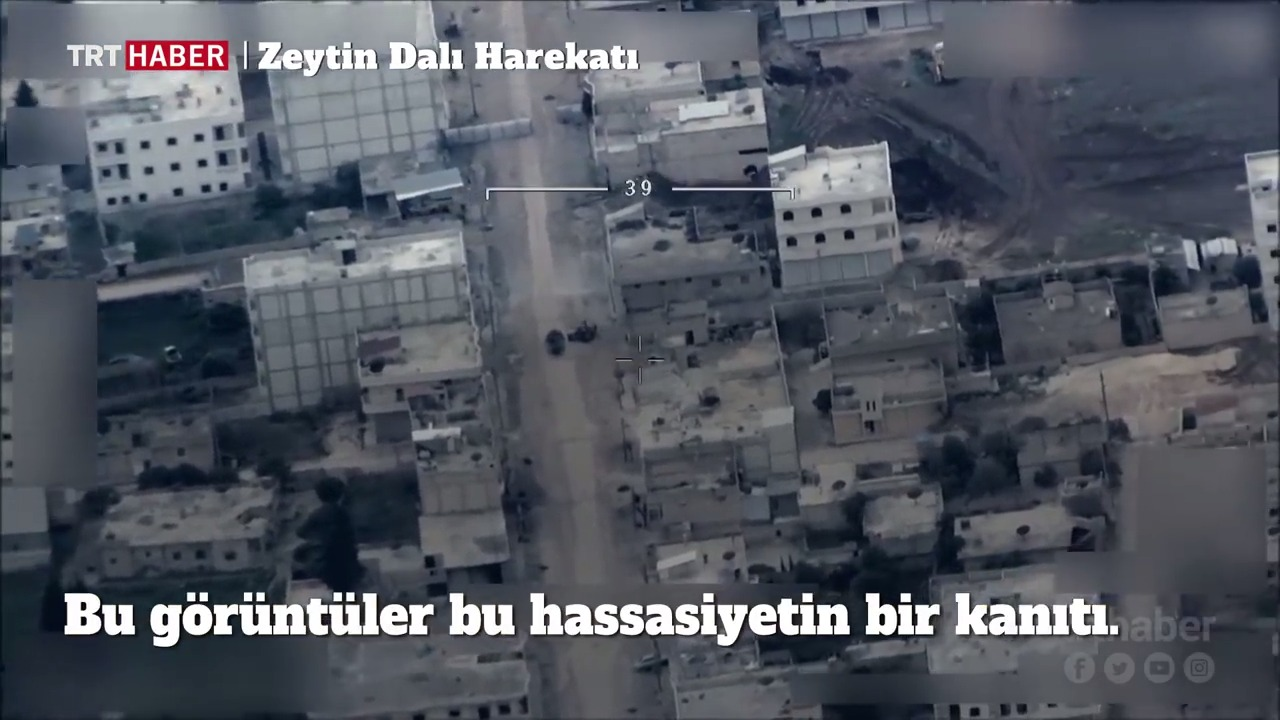arac: (566, 316, 604, 350), (538, 331, 572, 362), (633, 647, 671, 674), (159, 338, 190, 371)
